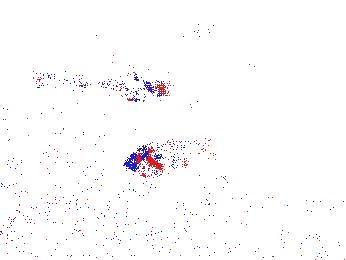X-ray fish: (120, 136, 215, 183)
red belly glassfish: (190, 15, 241, 37)
redtail glassfish: (99, 72, 172, 100), (33, 65, 93, 94)
